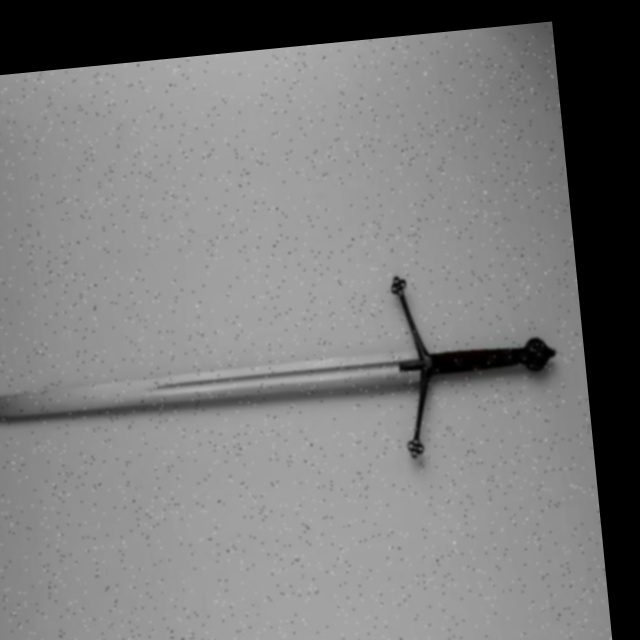Sharp-Object: (0, 326, 569, 449)
